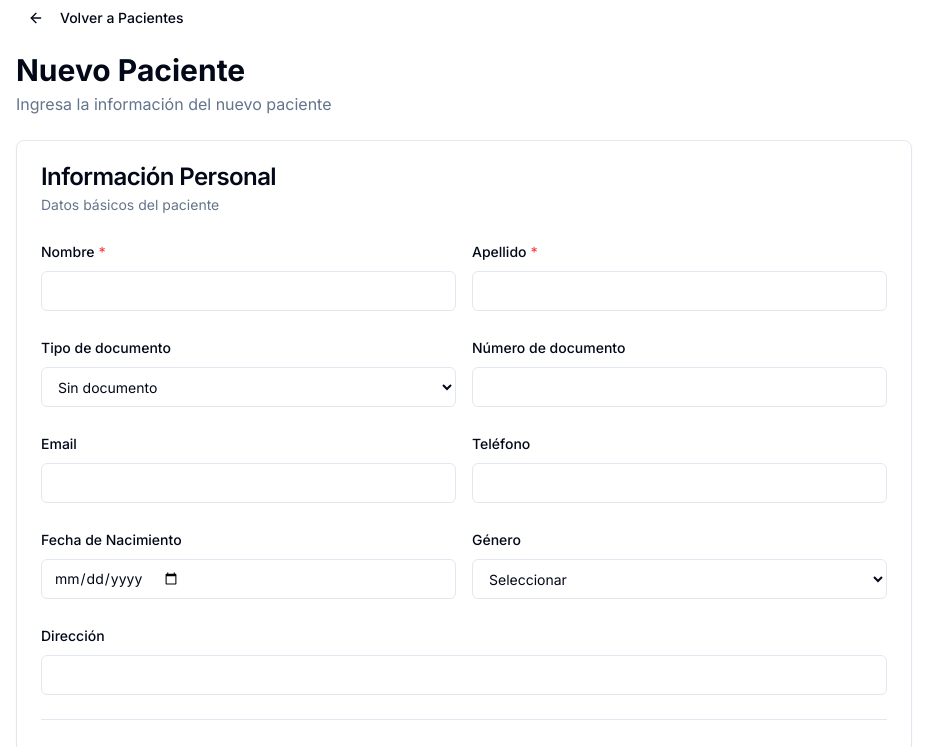
Test: patient billing data › copies the patient name, e-mail and address into the payer
Type "Ana" into the field with id "firstName" at [248, 291], box [41,271,456,311]
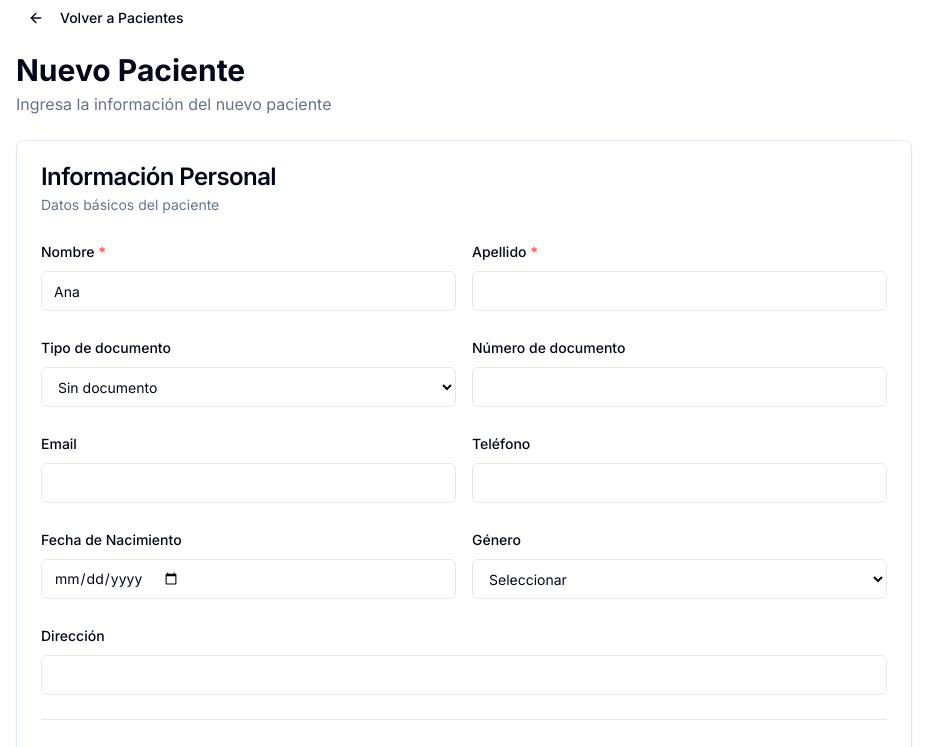
Type "Vega" into the field with id "lastName" at [680, 291], box [472,271,887,311]
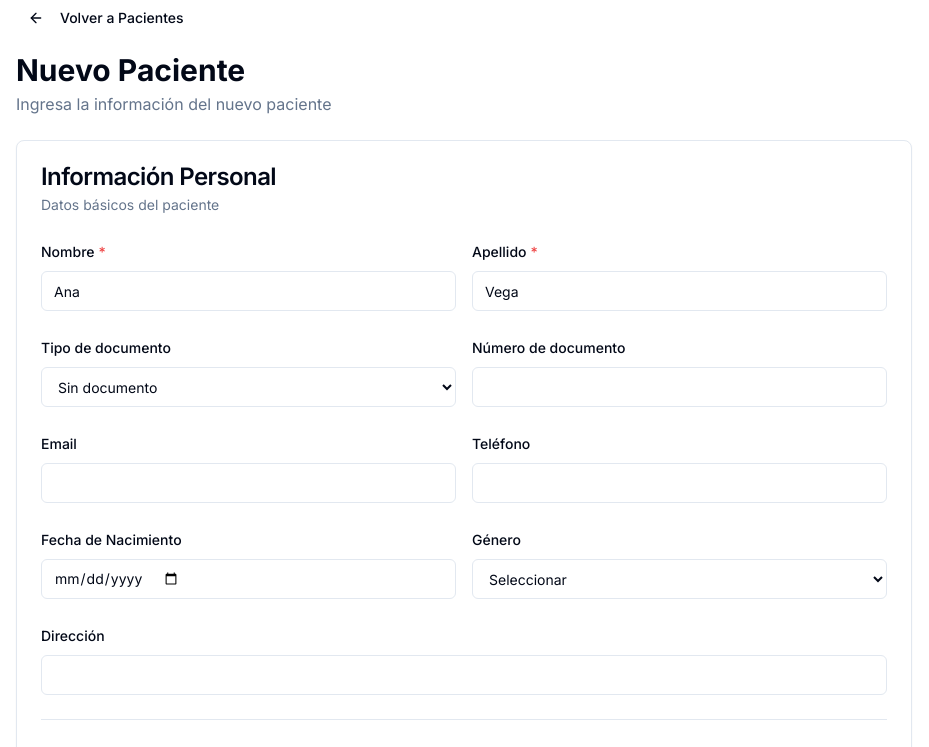
Type "ana@example.com" into the field with id "email" at [248, 483], box [41,463,456,503]
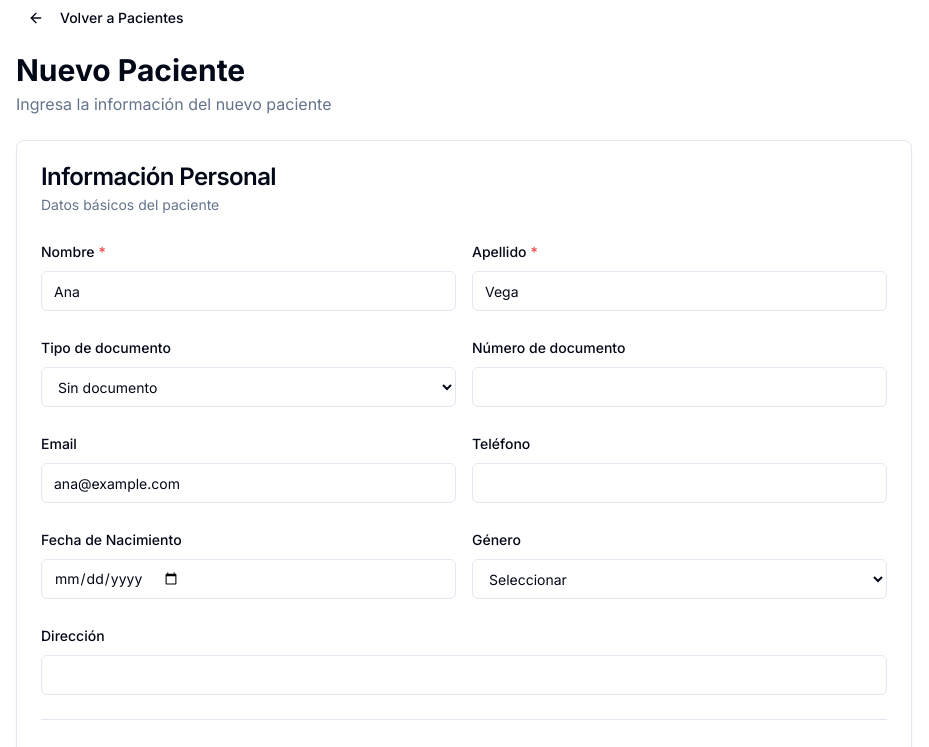
Type "Centro" into the field with id "address" at [464, 675], box [41,655,887,695]
(page scrolled)
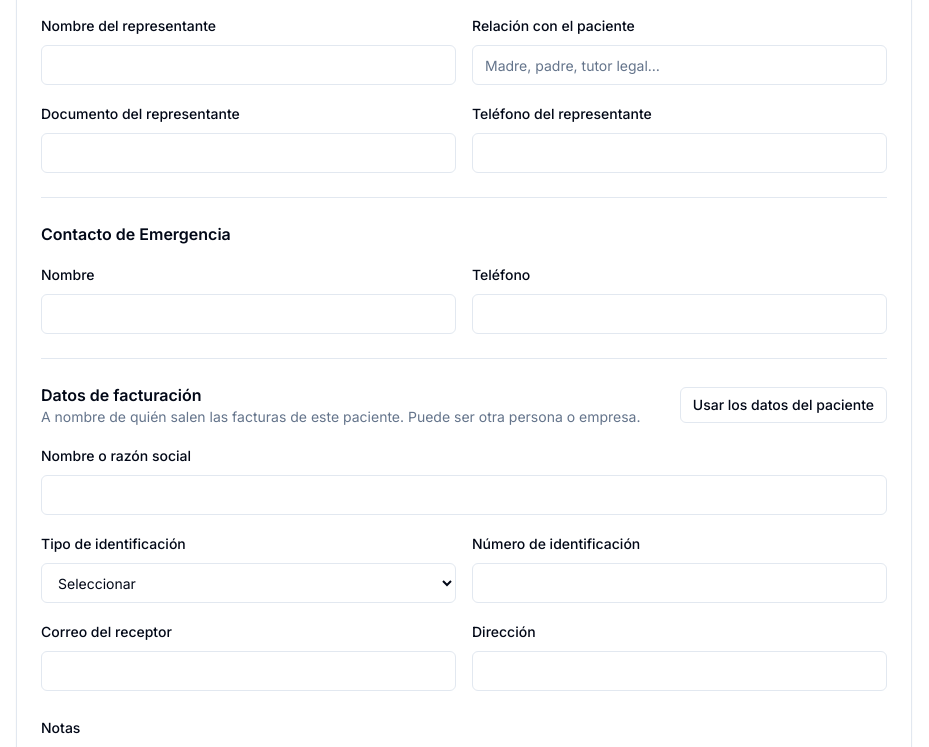
Click the button "Usar los datos del paciente" at [783, 405], box [680,387,887,423]
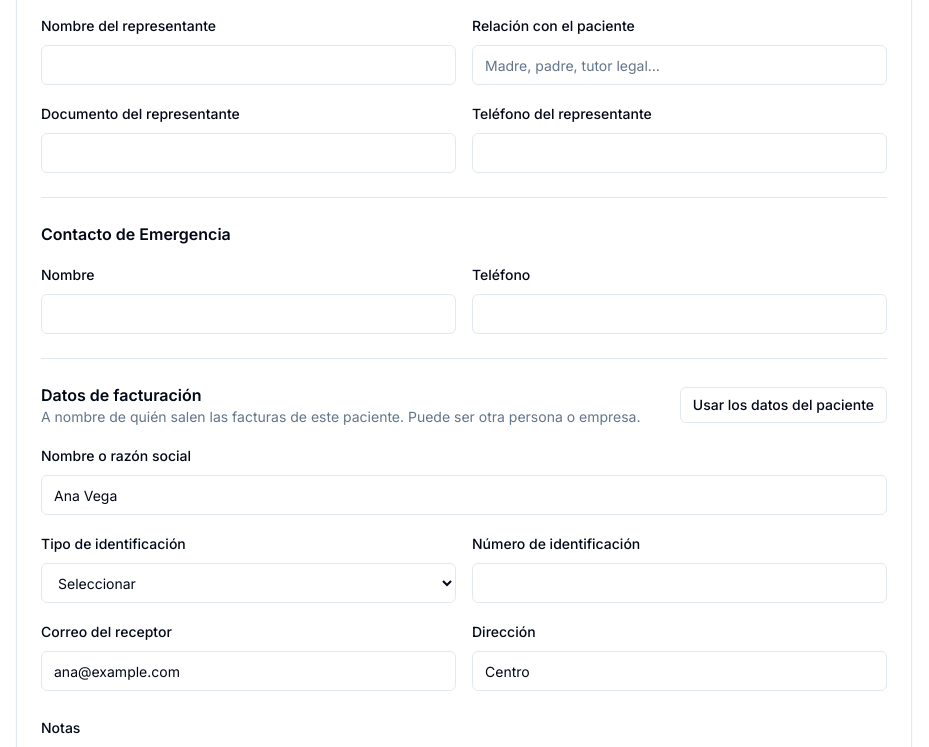
Result: the field labelled "Nombre o razón social" holds "Ana Vega" at [41,475,887,515]
Result: the field labelled "Correo del receptor" holds "ana@example.com" at [41,651,456,691]
Result: the field labelled "Dirección" holds "Centro" at [472,651,887,691]
